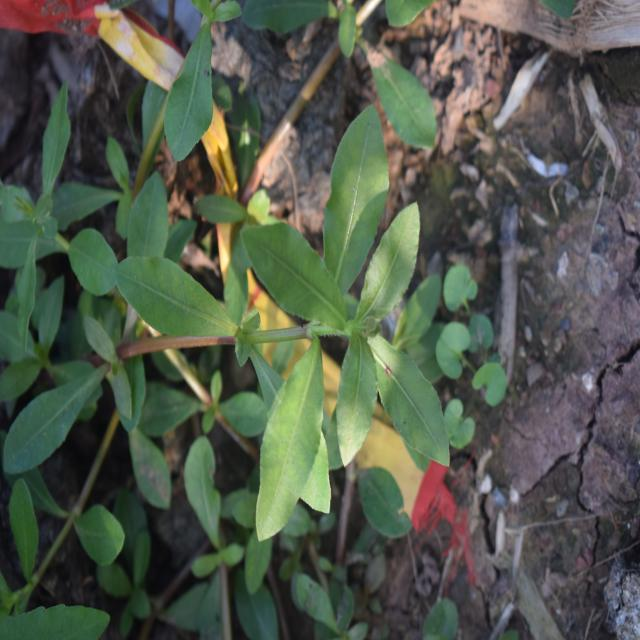Alligatorweed: (215, 119, 455, 526), (0, 122, 156, 406)
